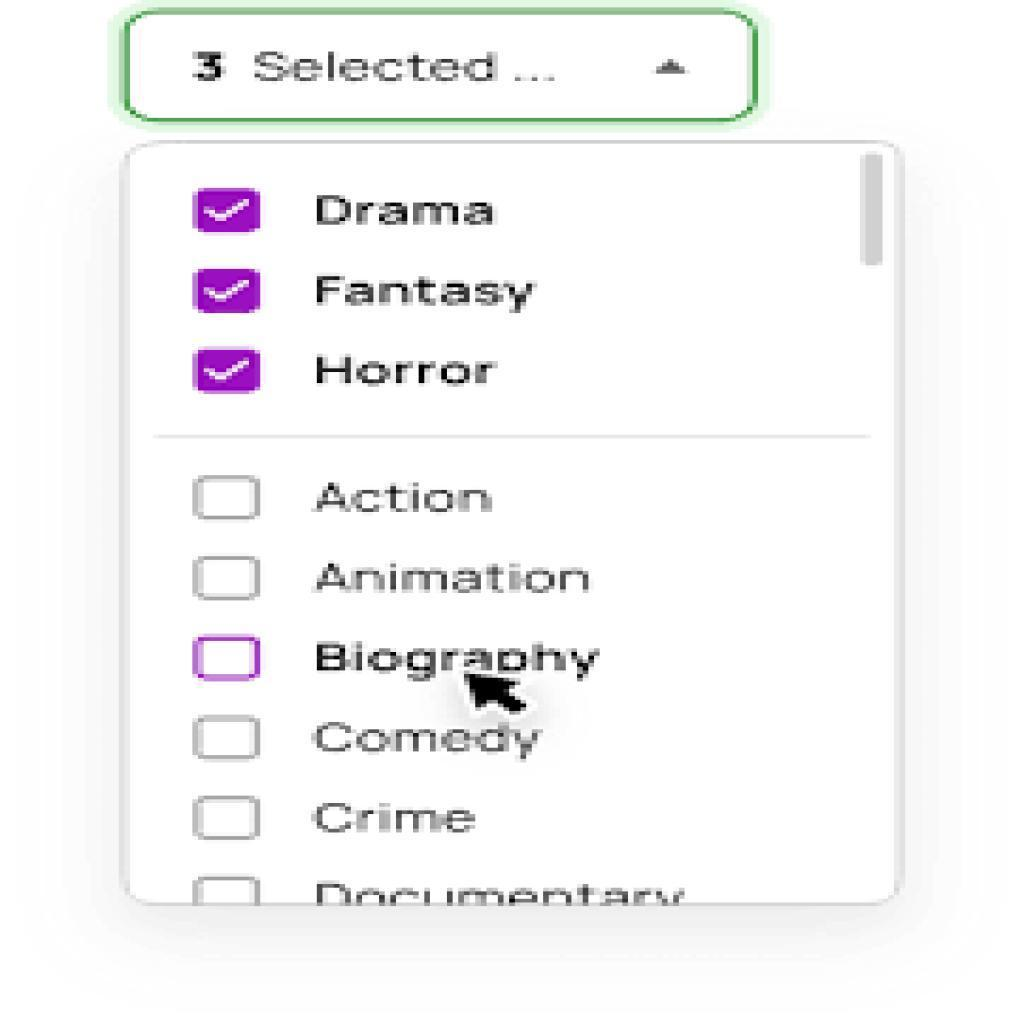checkbox: (193, 268, 263, 319), (195, 633, 263, 682), (196, 795, 264, 840), (195, 558, 262, 602), (193, 349, 262, 391), (195, 717, 262, 759), (196, 478, 261, 520), (196, 192, 261, 230)
dropdown: (127, 15, 760, 120)
label: (312, 635, 604, 693), (306, 262, 543, 314), (313, 715, 544, 764), (312, 349, 505, 402), (312, 560, 586, 597), (317, 473, 501, 525), (313, 185, 497, 233), (314, 796, 486, 845)
